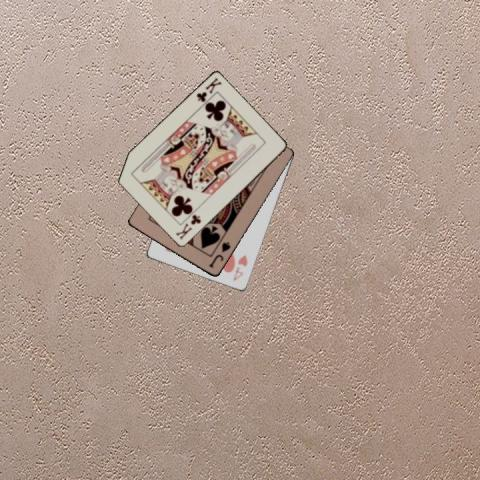4h: (230, 252, 249, 283)
Js: (205, 239, 232, 270)
Kc: (172, 212, 202, 241), (194, 75, 224, 104)
